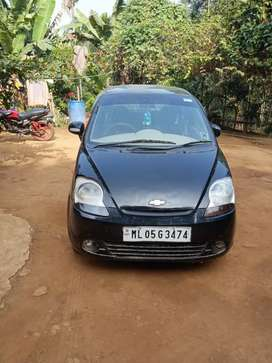ML05G3474: (123, 225, 191, 242)
